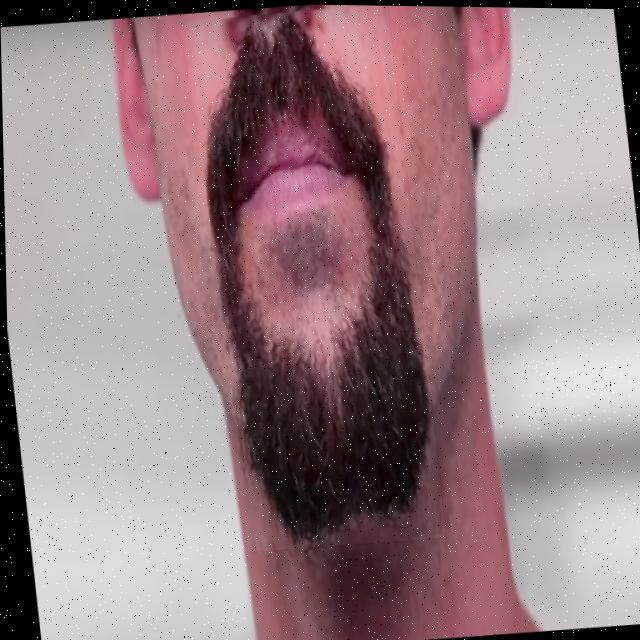beard: (206, 11, 430, 546)
